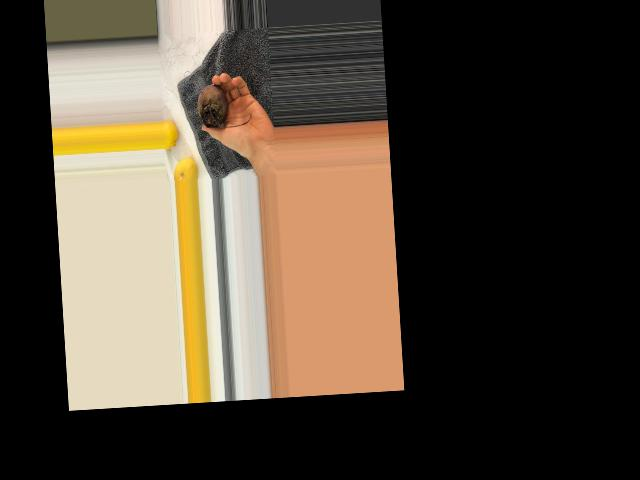beet: (196, 81, 251, 127)
